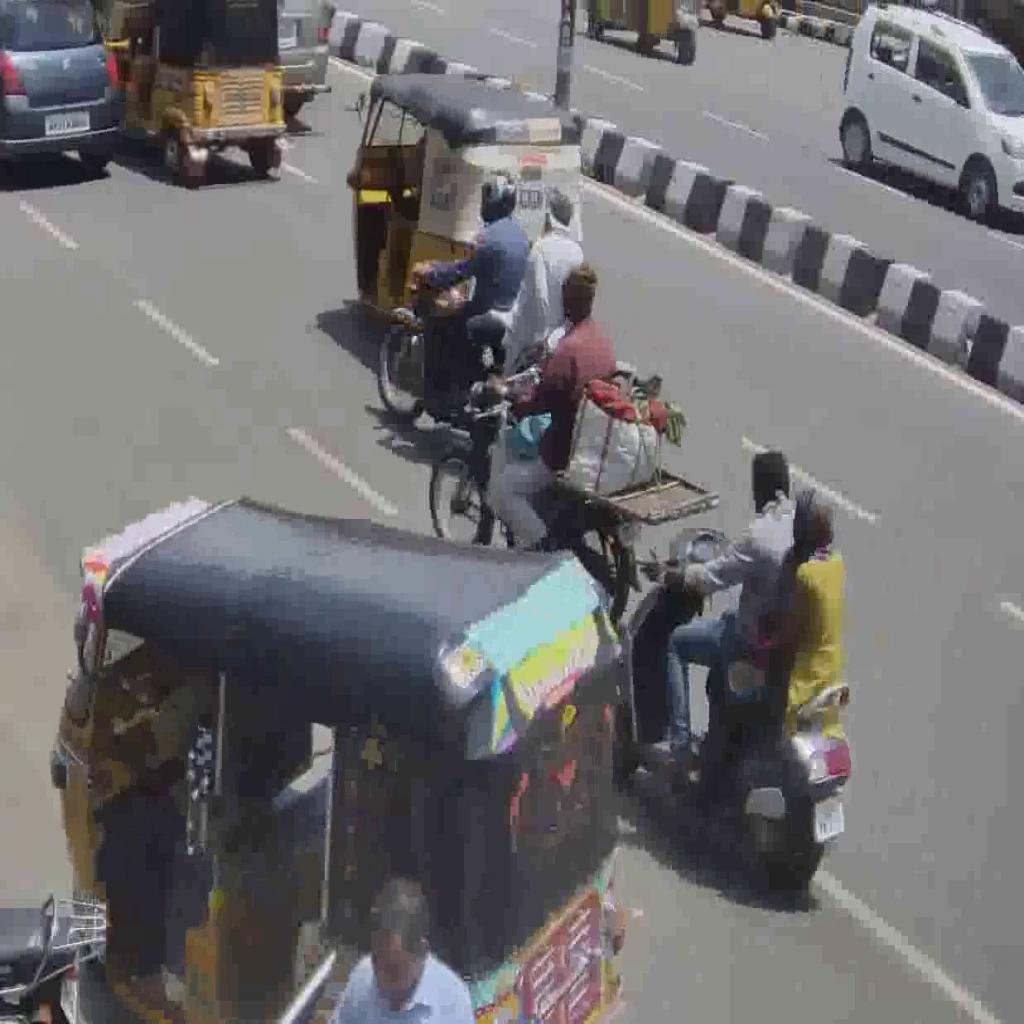bike: (619, 523, 853, 897), (428, 372, 644, 622), (375, 250, 556, 422)
helmet: (478, 164, 519, 227)
lisc: (813, 789, 846, 846)
no_helmet: (788, 487, 838, 564), (747, 448, 793, 518), (557, 261, 601, 333), (541, 189, 574, 241)
rider: (680, 487, 848, 792), (642, 447, 797, 775), (474, 261, 621, 555), (412, 164, 529, 401), (464, 189, 584, 385)
